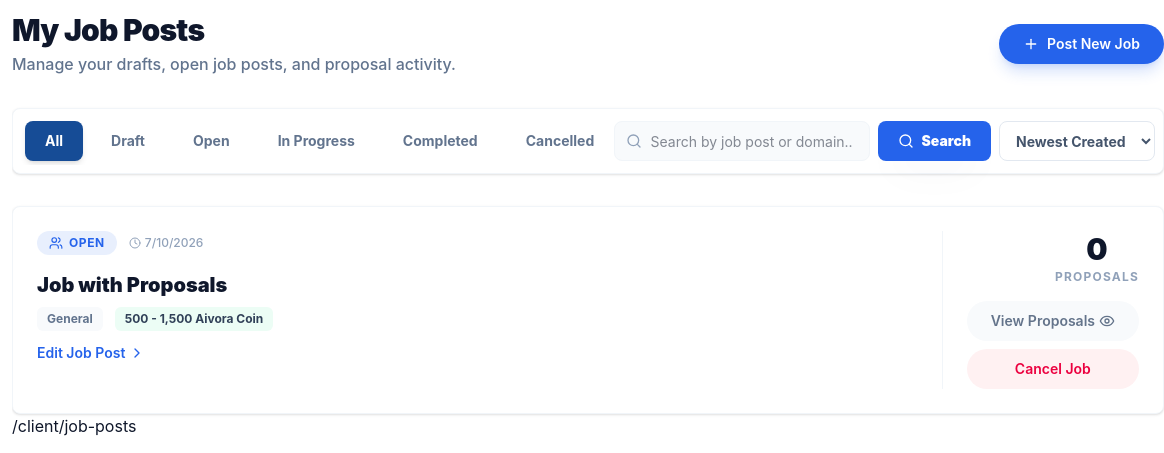
it: MyJobPostsPage › Job action buttons › preserves View Proposals navigation
Click the link "View Proposals" at (1053, 321), box [967,301,1139,341]
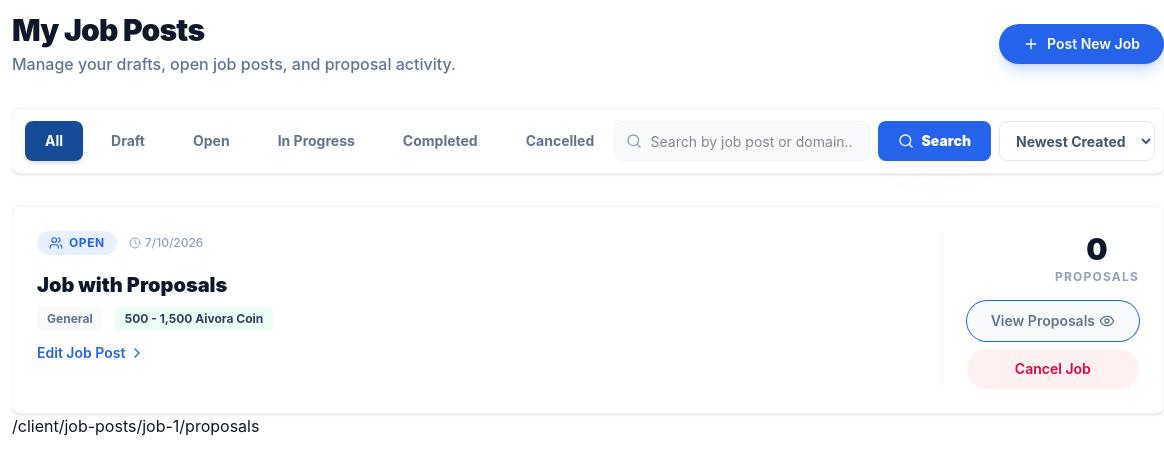
Result: the text named "current path" reads "/client/job-posts/job-1/proposals" at [12,416,259,436]
